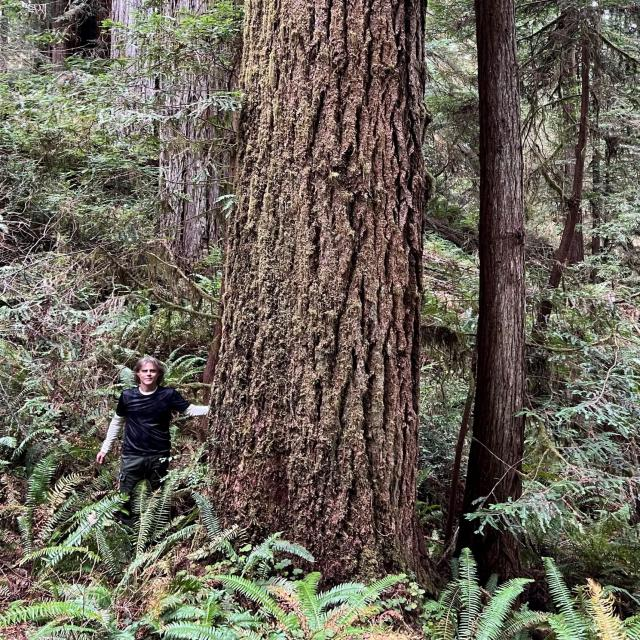Pseudotsuga menziesii: (203, 0, 430, 576)
